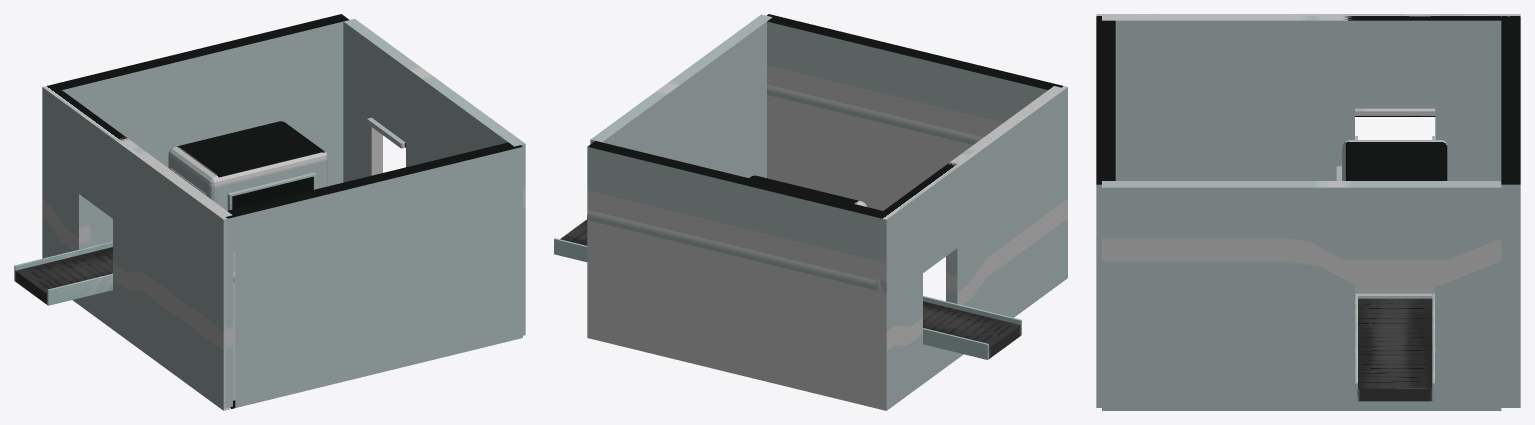
The model's file is tsa.fbx.
The picture shows the model from 3 angles, left to right: view 1: azimuth 30°, elevation 25°; view 2: azimuth 150°, elevation 25°; view 3: azimuth 270°, elevation 25°; orthographic projection. The views are drawn at different scales.
Parts seen in each view (by area): view 1: wrota.002, wrota, wrota.001, skaner, tasma, ekran; view 2: wrota.001, wrota, wrota.002, tasma, skaner; view 3: wrota, tasma, wrota.001, skaner, wrota.002.
Boxes of the visible parts, box(x1,y1,x2,y2) form: wrota.002: box(215, 142, 522, 410); wrota: box(50, 18, 525, 408); wrota.001: box(42, 14, 349, 258); skaner: box(168, 121, 327, 210); tasma: box(14, 241, 112, 305); ekran: box(227, 172, 316, 210); wrota.001: box(587, 141, 894, 410); wrota: box(590, 14, 1065, 404); wrota.002: box(767, 14, 1067, 283); tasma: box(554, 215, 1021, 359); skaner: box(749, 175, 866, 206); wrota: box(1102, 14, 1501, 410); tasma: box(1355, 136, 1434, 401); wrota.001: box(1501, 14, 1520, 407); skaner: box(1342, 140, 1448, 345); wrota.002: box(1096, 14, 1115, 407).
Size of the model in its own units: 551 by 232 by 399.
10 materials, 10 textured.
